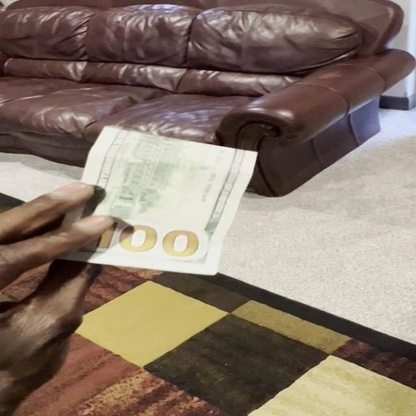one_hundred-back: (49, 113, 259, 278)
